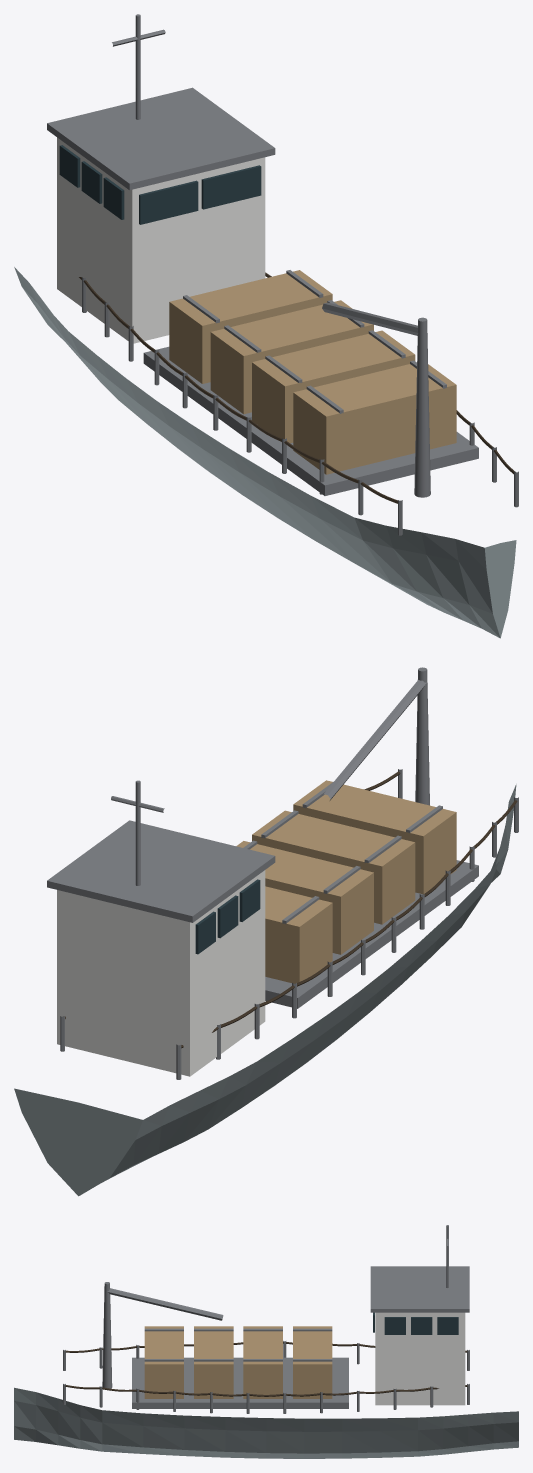
File: coaster.gltf
3 views of the same model, one above another, from view 1: azimuth 30°, elevation 25°; view 2: azimuth 150°, elevation 25°; view 3: azimuth 270°, elevation 25° (orthographic). The views are drawn at different scales.
Parts seen in each view (by area): view 1: coaster-cargo-hold, coaster-wheelhouse, coaster-hull; view 2: coaster-wheelhouse, coaster-cargo-hold, coaster-hull; view 3: coaster-hull, coaster-cargo-hold, coaster-wheelhouse.
Part boxes in pixels (x1=…): coaster-cargo-hold: x1=79, y1=270, x2=515, y2=503; coaster-wheelhouse: x1=47, y1=14, x2=518, y2=535; coaster-hull: x1=14, y1=267, x2=516, y2=638; coaster-wheelhouse: x1=47, y1=769, x2=518, y2=1079; coaster-cargo-hold: x1=63, y1=667, x2=517, y2=1048; coaster-hull: x1=14, y1=784, x2=516, y2=1196; coaster-hull: x1=14, y1=1387, x2=518, y2=1458; coaster-cargo-hold: x1=65, y1=1282, x2=467, y2=1408; coaster-wheelhouse: x1=63, y1=1225, x2=469, y2=1413.
Bounding box in the file's own units: 2.54 × 4.69 × 9.2.
